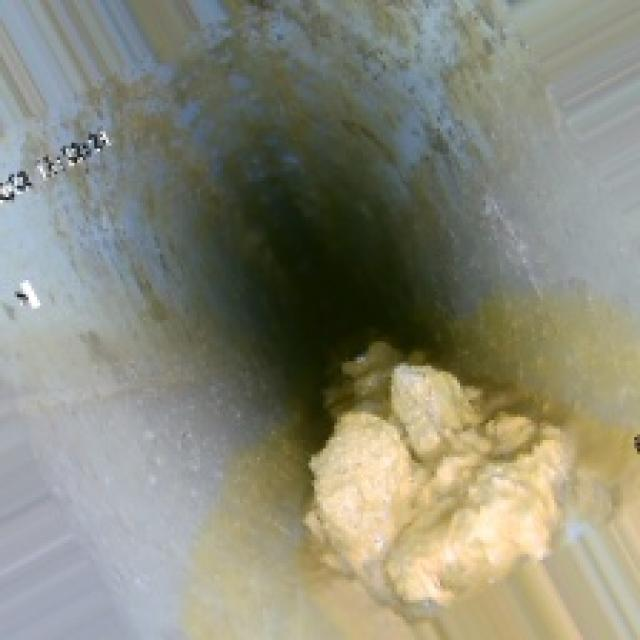sluge accumulation: (297, 334, 560, 600)
